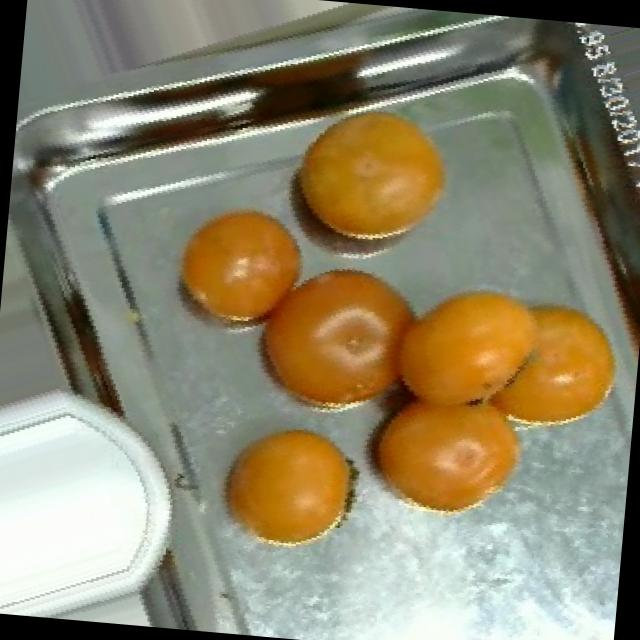Fruit: (211, 234, 443, 446), (250, 76, 480, 274), (324, 368, 552, 540), (190, 400, 388, 576), (144, 179, 334, 362), (467, 278, 640, 451)
